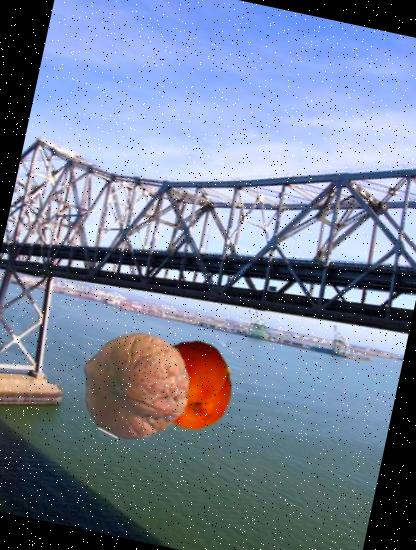Apricot: (138, 332, 245, 440)
Walnut: (69, 319, 202, 452)
